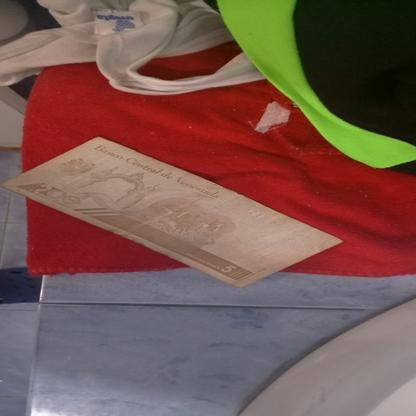five-back-vef: (1, 135, 344, 288)
